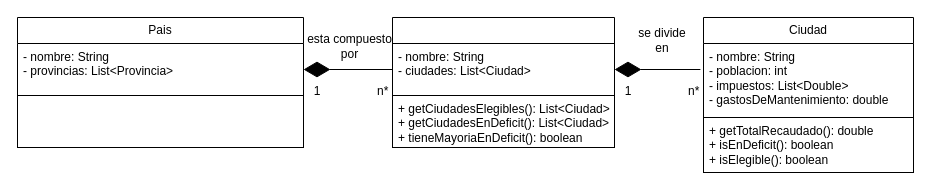
The diagram is 931 pixels wide and 193 high, and some of its shapes have lost their labels. Each missing label, with the box of its shape:
+ generarInforme(): void + getProvinciasConMayoriaDeficit():List<Provincia>: (16, 94, 304, 148)
Provincia: (392, 16, 614, 148)
